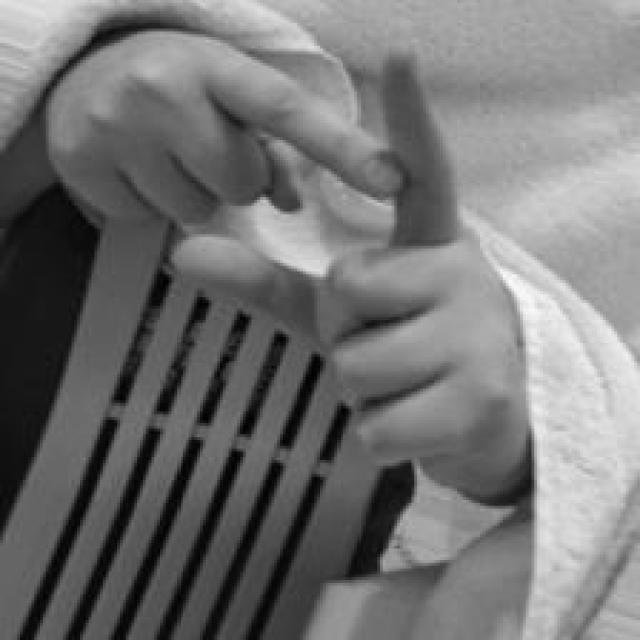J: (48, 30, 535, 502)
